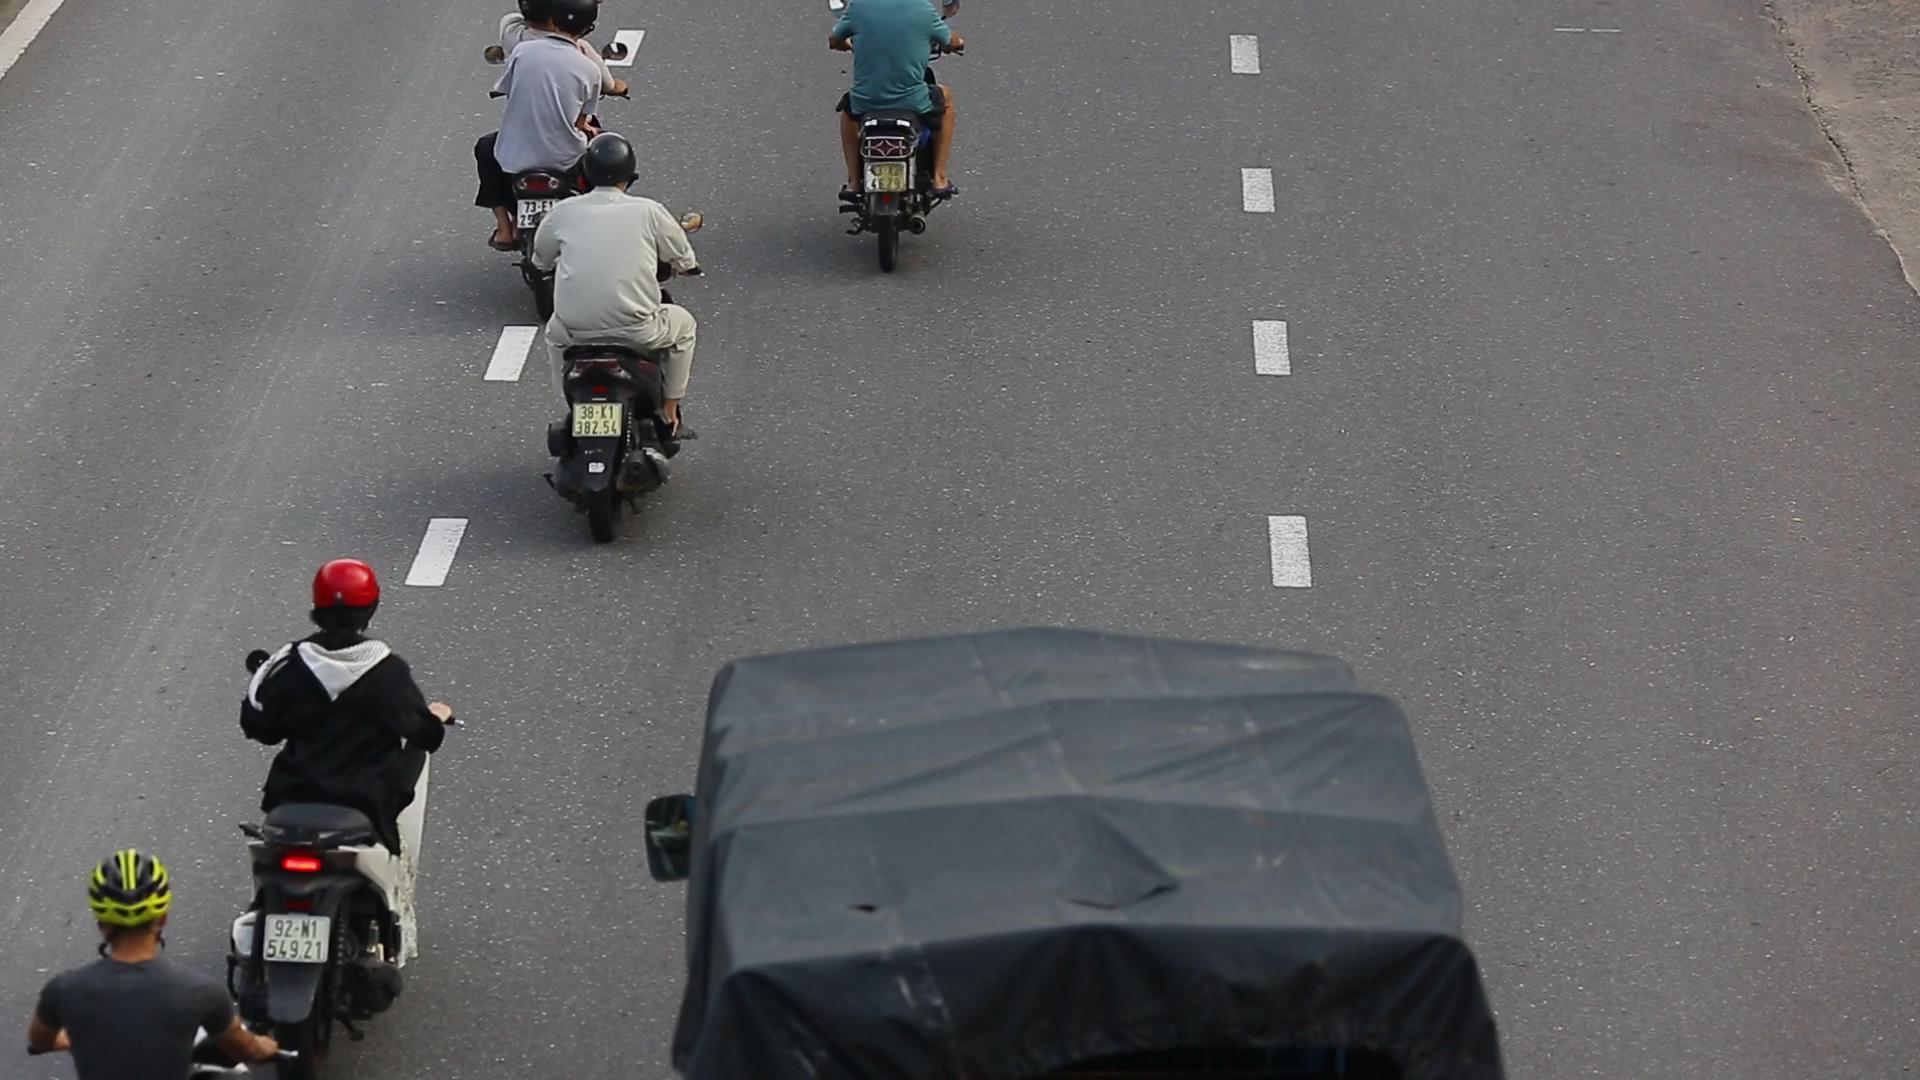motobike: (231, 545, 468, 1077), (527, 127, 702, 554)
